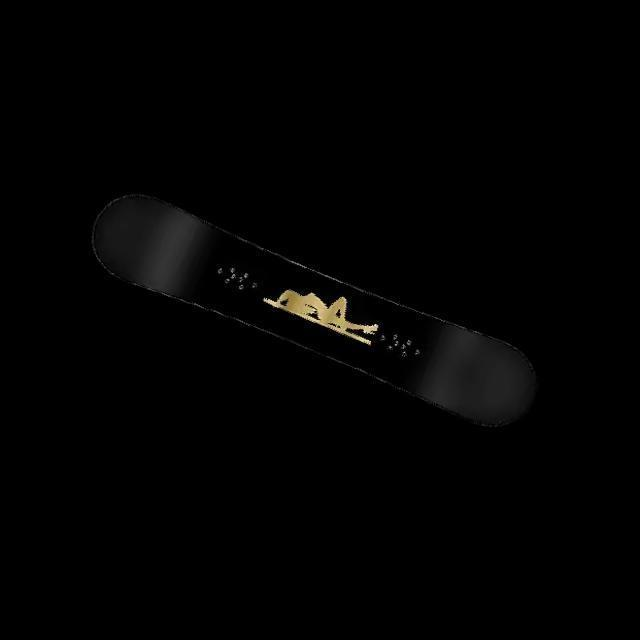Snowboard: (90, 191, 538, 430)
